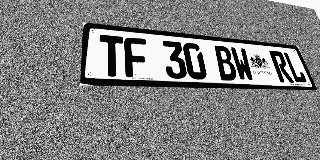0: (182, 42, 208, 80)
3: (162, 40, 188, 79)
B: (213, 45, 238, 81)
F: (124, 37, 149, 78)
L: (282, 52, 308, 83)
R: (269, 51, 294, 83)
T: (99, 35, 125, 77)
W: (230, 47, 255, 81)
